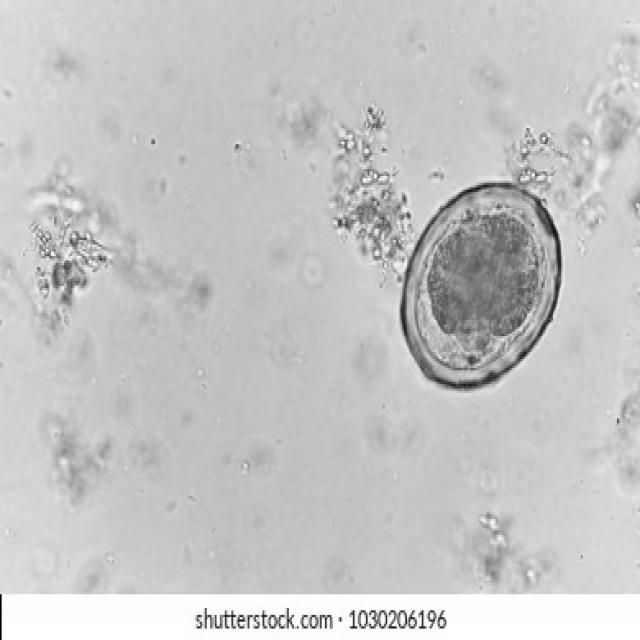Ascaris Lumbricoides: (396, 169, 569, 405)
